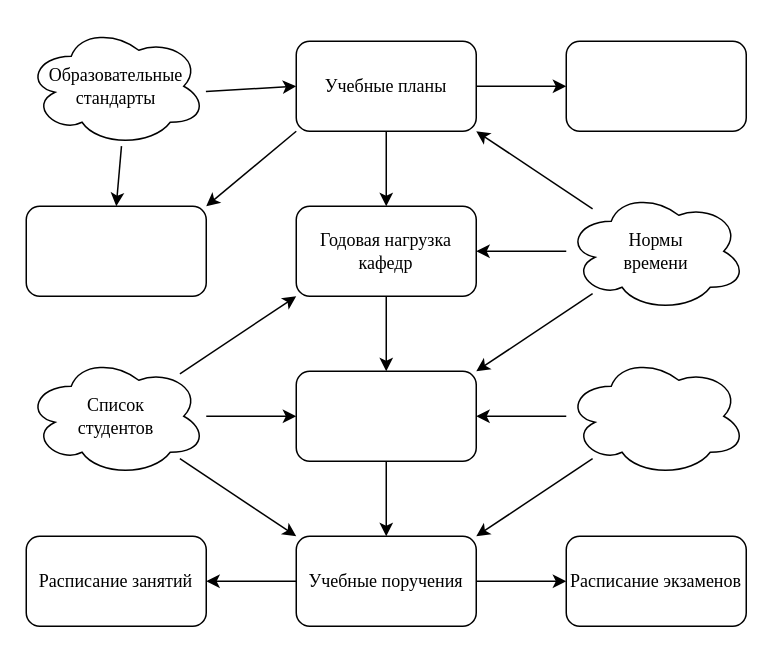
Image size: 773x653. Some labels were removed from this diagram. Here are the shapes that lost their labels. From the top down, the box of each, then its label:
(565, 40, 746, 131): Штатное расписание
(25, 205, 206, 296): Рабочие программы дисциплин
(295, 370, 476, 461): Индивидуальная нагрузка преподавателей
(565, 355, 746, 476): Список преподавателей
